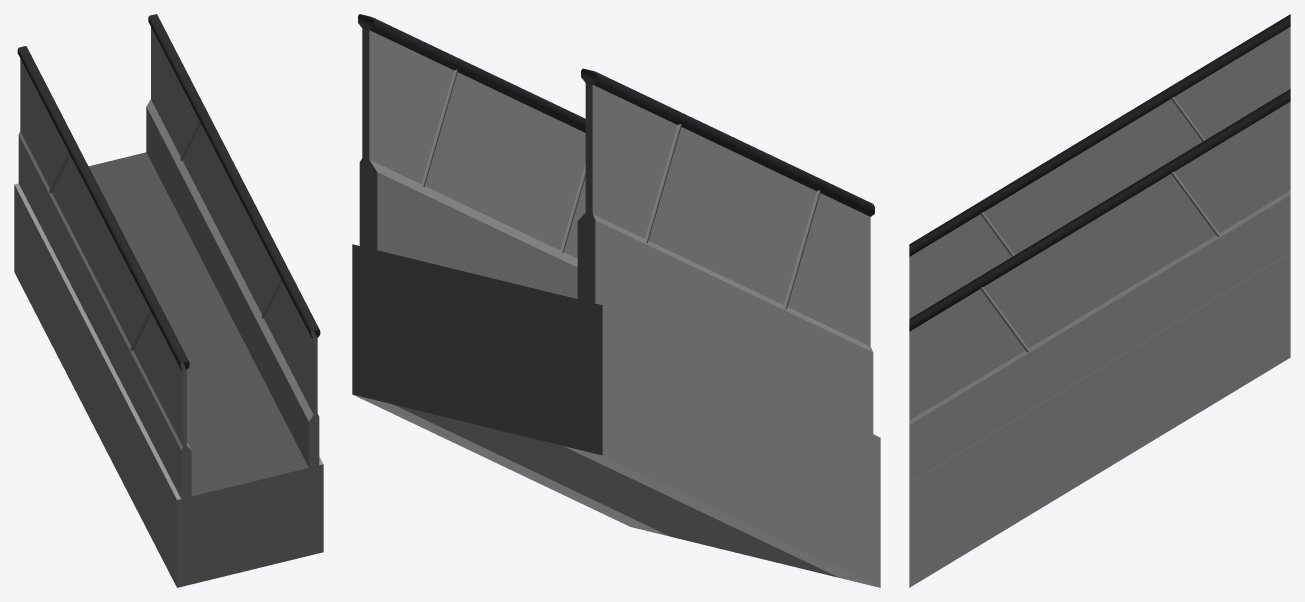
File: SW_ENV_Escalator_8Step_base.fbx
The picture shows the model from 3 angles, left to right: view 1: azimuth 30°, elevation 25°; view 2: azimuth 150°, elevation 25°; view 3: azimuth 270°, elevation 25°; orthographic projection. The views are drawn at different scales.
Visible parts, largest first — view 1: SW_ENV_Escalator_8Step_base; view 2: SW_ENV_Escalator_8Step_base; view 3: SW_ENV_Escalator_8Step_base.
Boxes of the visible parts, x1,y1,x2,y2 form: SW_ENV_Escalator_8Step_base: (14,14,323,587); SW_ENV_Escalator_8Step_base: (352,14,880,587); SW_ENV_Escalator_8Step_base: (909,14,1290,587).
Size of the model in its own units: 1.25 by 3.42 by 2.4.
